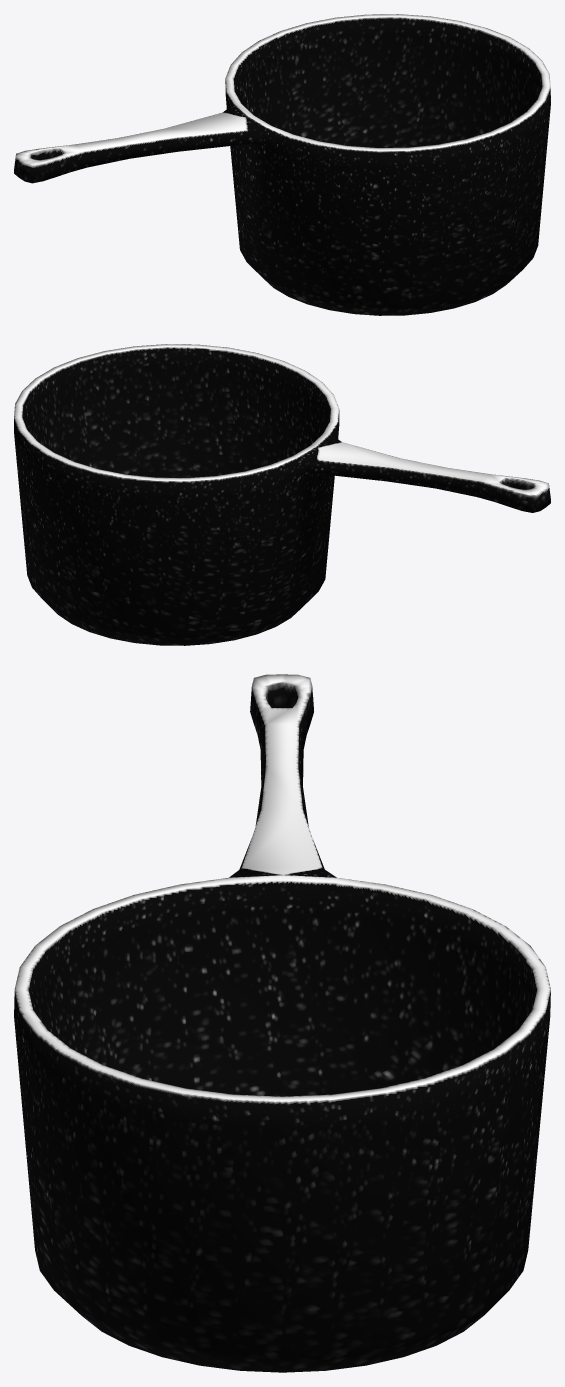
Rendered from pan.glb.
The picture shows the model from 3 angles, top to bottom: view 1: azimuth 30°, elevation 25°; view 2: azimuth 150°, elevation 25°; view 3: azimuth 270°, elevation 25°; orthographic projection. The views are drawn at different scales.
Parts seen in each view (by area): view 1: pan; view 2: pan; view 3: pan.
Part boxes in pixels (x1,y1,x2,y2): pan: (14, 14, 550, 315); pan: (14, 344, 550, 645); pan: (14, 674, 550, 1372).
Size of the model in its own units: 1.23 by 0.4347 by 0.6798.
Materials: 1 (1 with a texture image).
